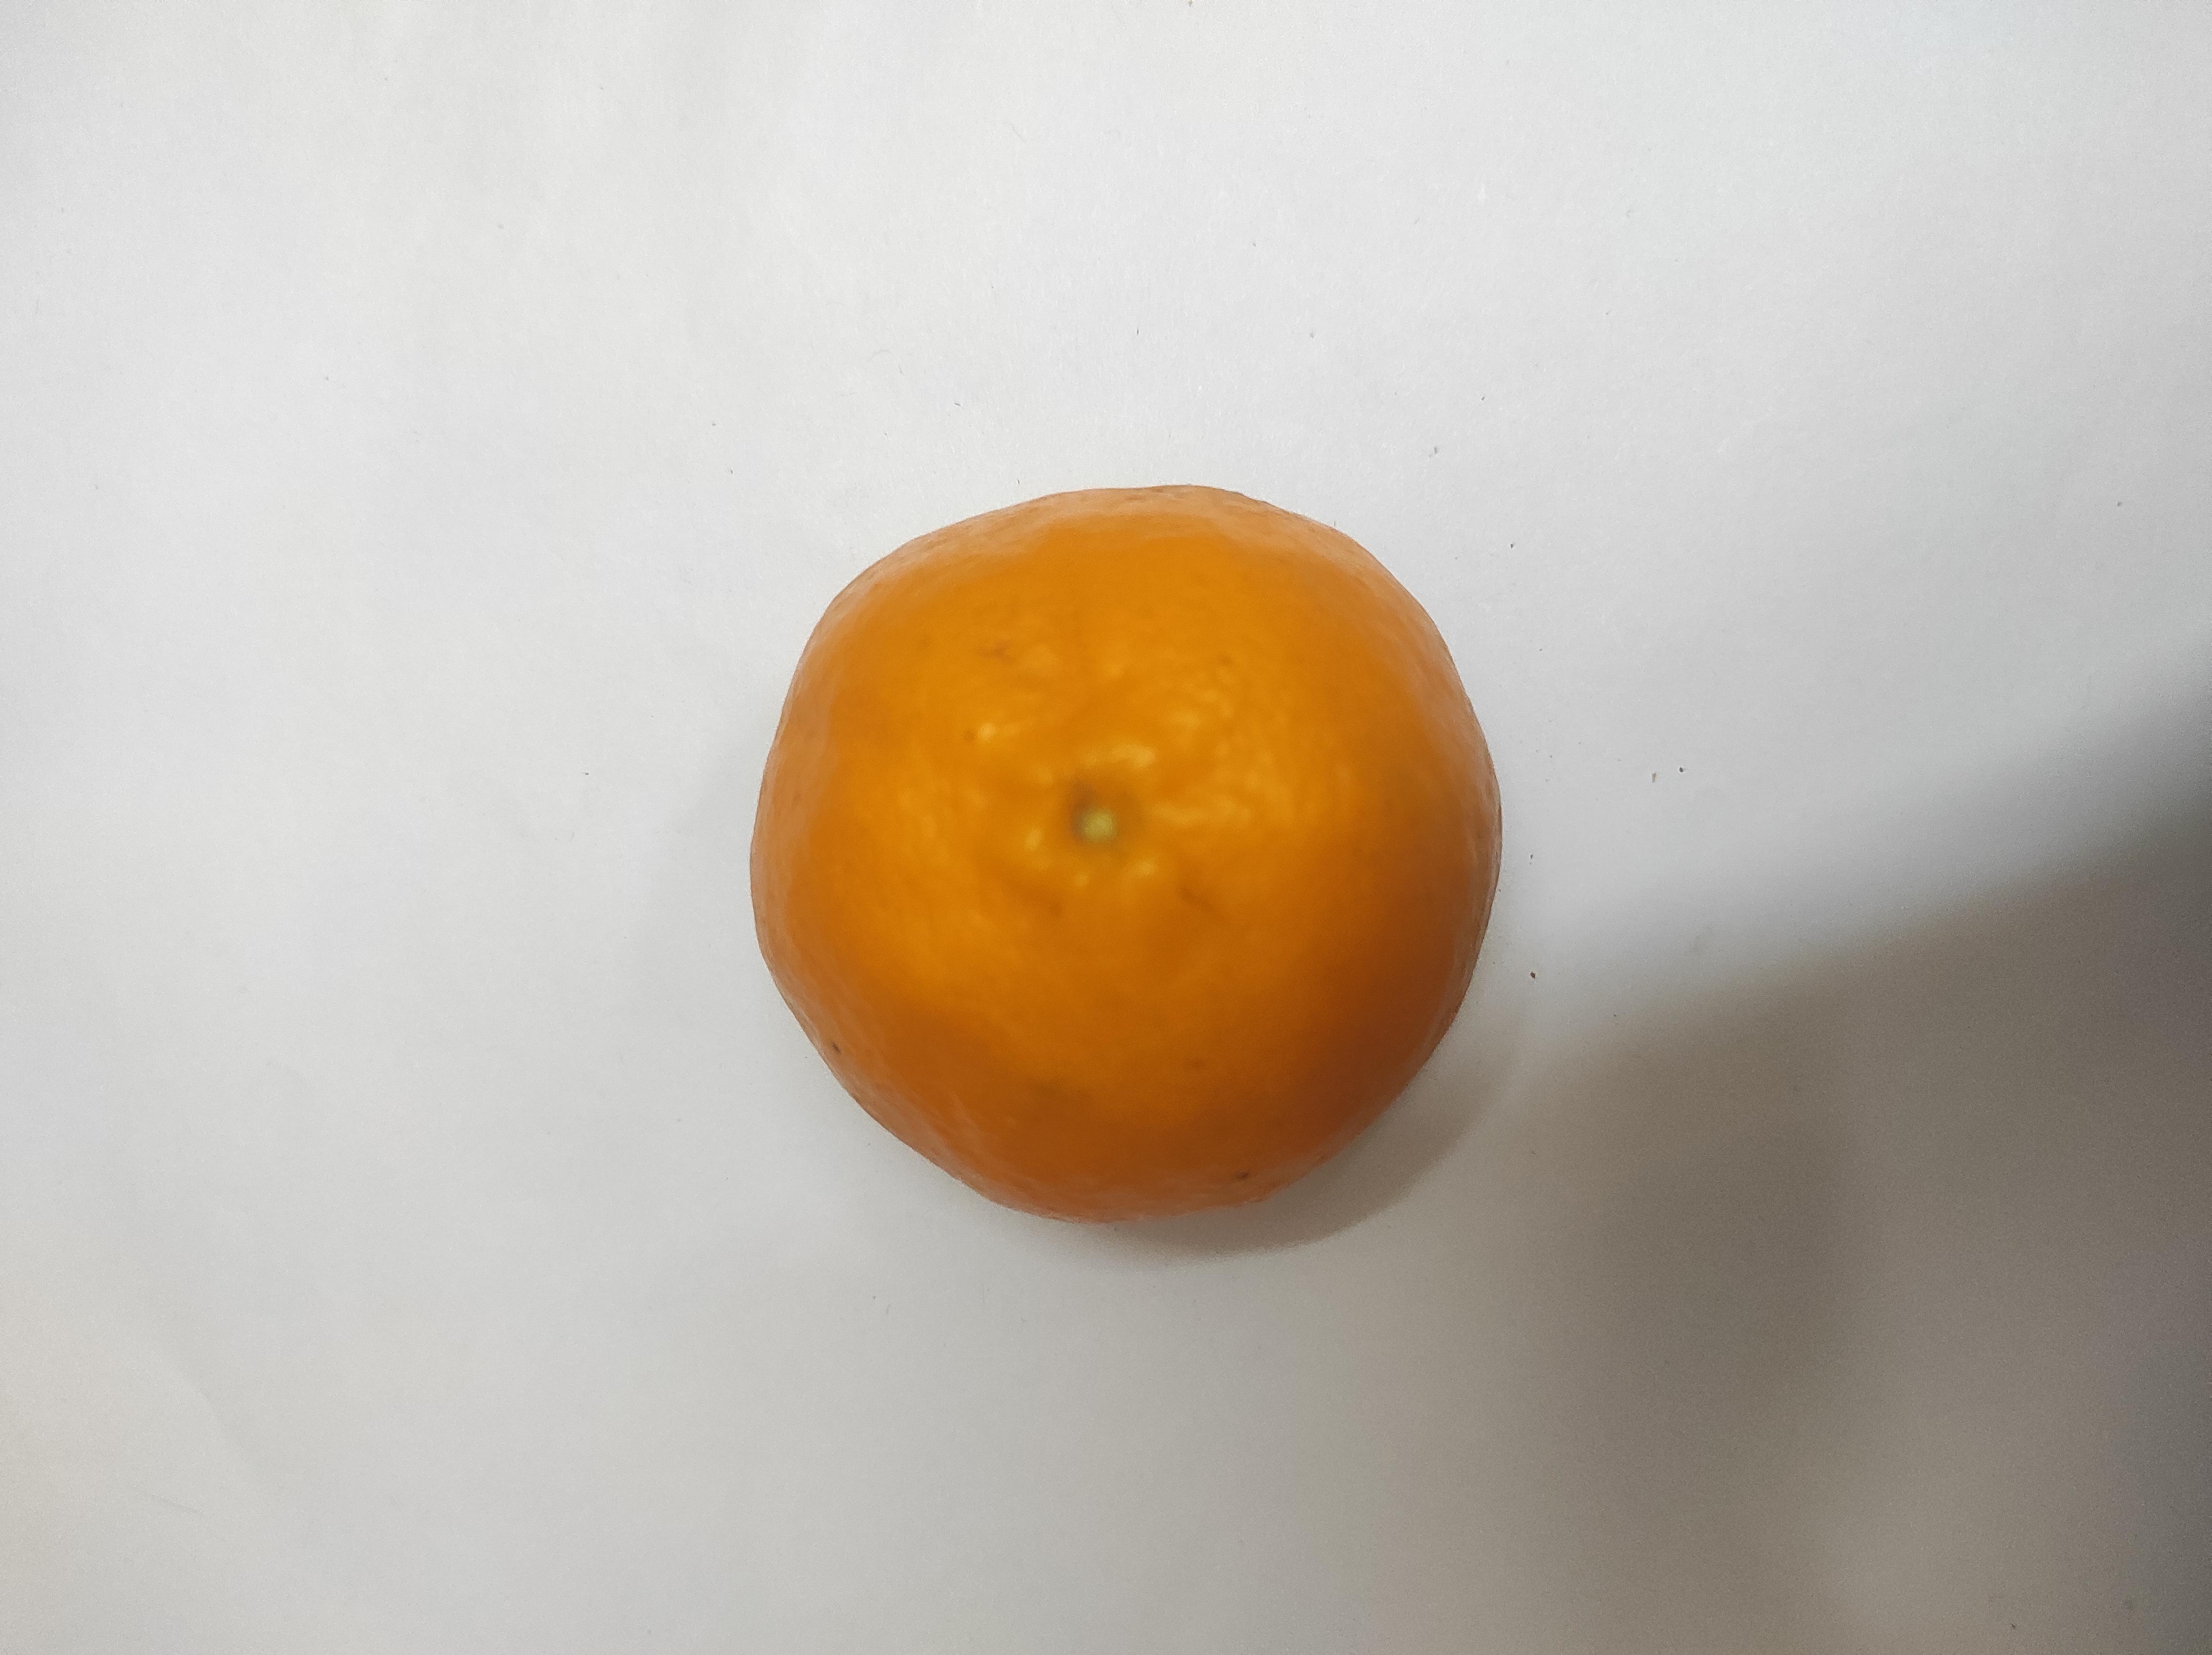Ripe: (744, 487, 1511, 1206)
